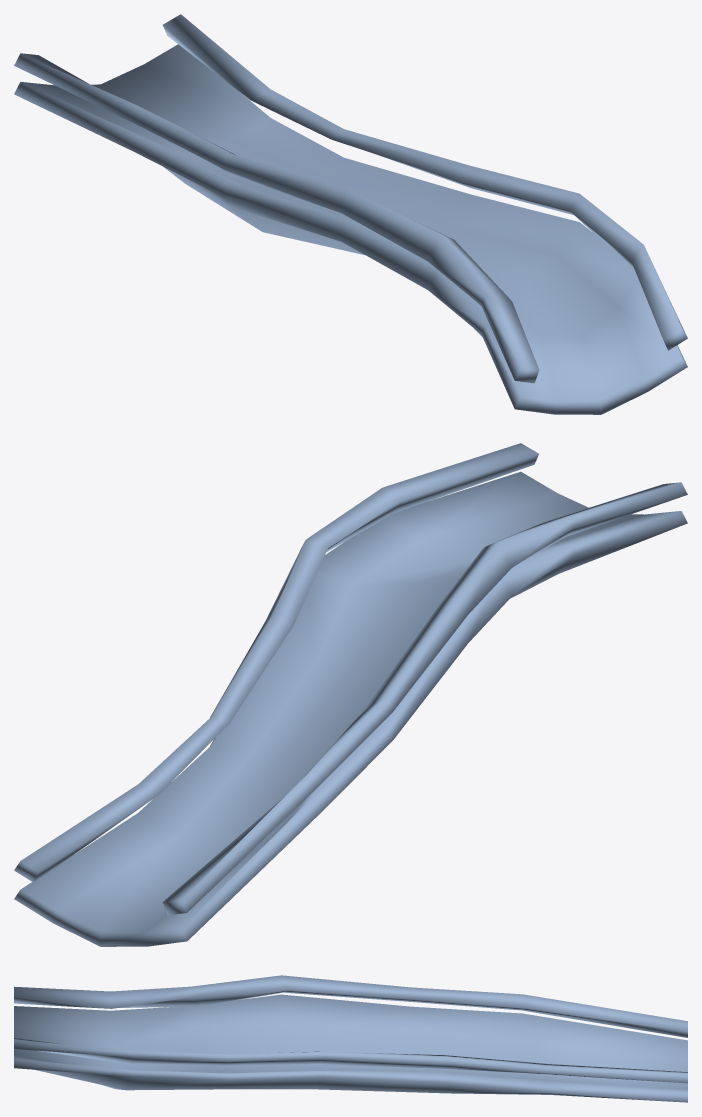
The model's file is junRoadShort2p5.fbx.
The picture shows the model from 3 angles, top to bottom: view 1: azimuth 30°, elevation 25°; view 2: azimuth 150°, elevation 25°; view 3: azimuth 270°, elevation 25°; orthographic projection. The views are drawn at different scales.
Parts seen in each view (by area): view 1: junRoadShort2p5_LOD0, junRoadShort2p5_edge_LOD0; view 2: junRoadShort2p5_LOD0, junRoadShort2p5_edge_LOD0; view 3: junRoadShort2p5_LOD0, junRoadShort2p5_edge_LOD0.
Part boxes in pixels (bbox=[...]): junRoadShort2p5_LOD0: bbox=[14, 44, 687, 414]; junRoadShort2p5_edge_LOD0: bbox=[14, 14, 687, 383]; junRoadShort2p5_LOD0: bbox=[14, 471, 687, 946]; junRoadShort2p5_edge_LOD0: bbox=[14, 443, 687, 915]; junRoadShort2p5_LOD0: bbox=[14, 994, 687, 1102]; junRoadShort2p5_edge_LOD0: bbox=[14, 975, 687, 1083].
Size of the model in its own units: 427 by 255 by 1590.
